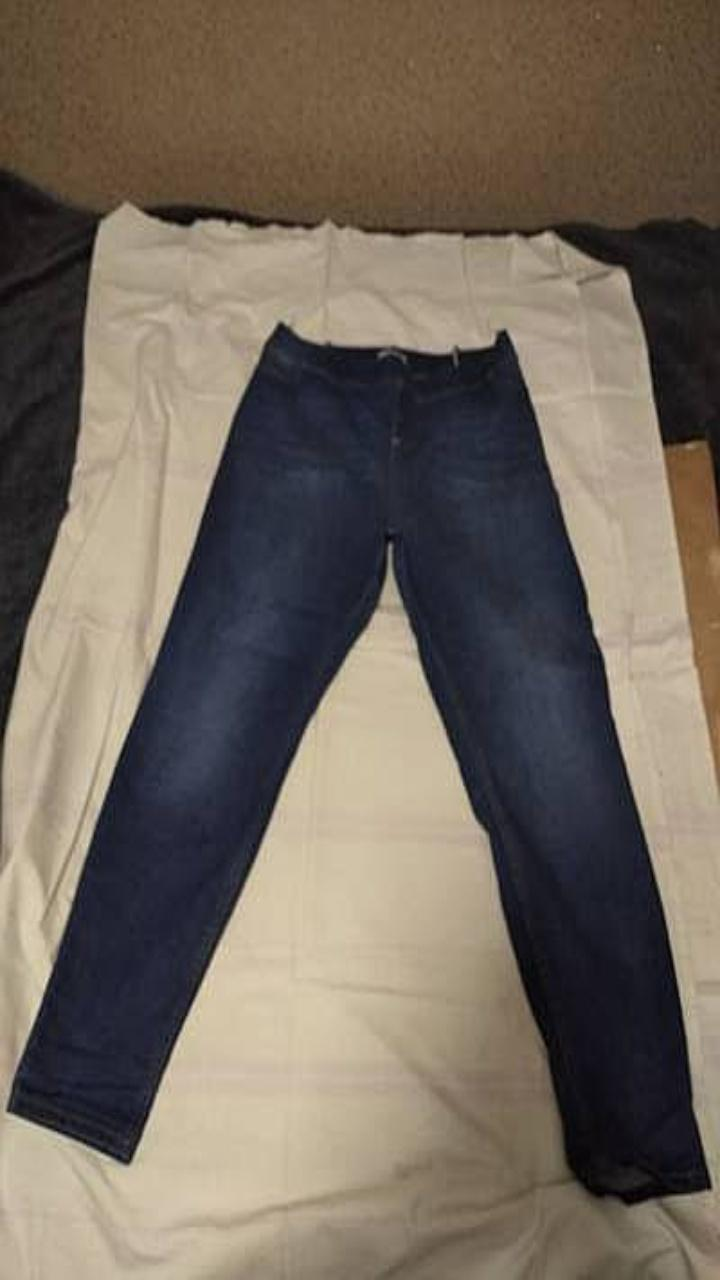Jeans: (7, 322, 710, 1202)
